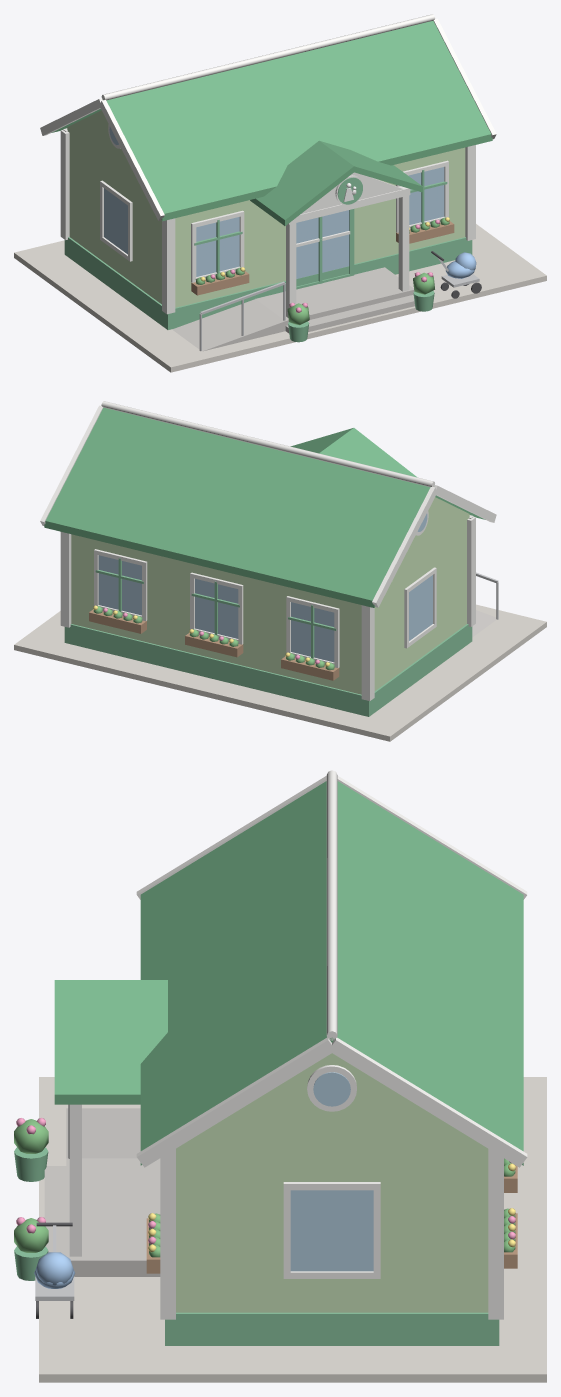
The picture shows the model from 3 angles, top to bottom: view 1: azimuth 30°, elevation 25°; view 2: azimuth 150°, elevation 25°; view 3: azimuth 270°, elevation 25°; orthographic projection. The views are drawn at different scales.
Parts seen in each view (by area): view 1: base; view 2: base; view 3: base.
Part boxes in pixels (x1,y1,x2,y2): base: (14, 14, 546, 372); base: (14, 401, 546, 741); base: (14, 770, 546, 1382).
Bounding box in the file's own units: 9 × 4.71 × 6.82.
